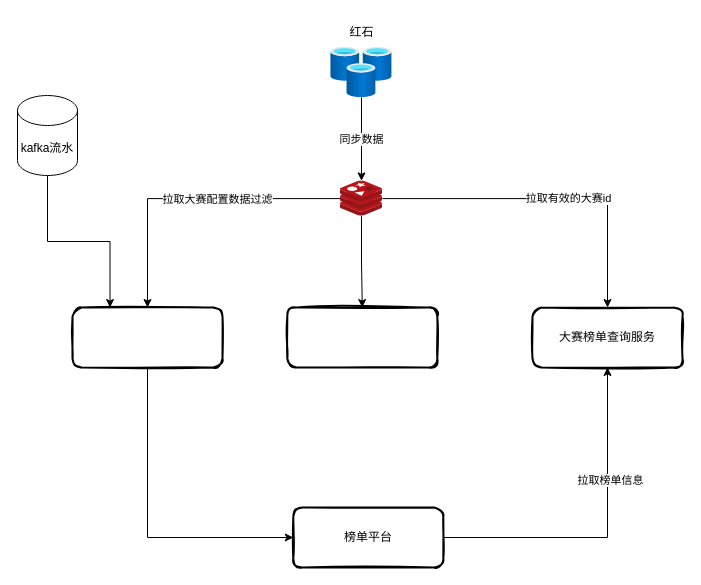
The diagram is 701 pixels wide and 585 high, and some of its shapes have lost their labels. The centre of each missing label's shape, as x and y in pixels:
大赛信息查询服务: (x=362, y=337)
大赛流水上报: (x=147, y=337)
